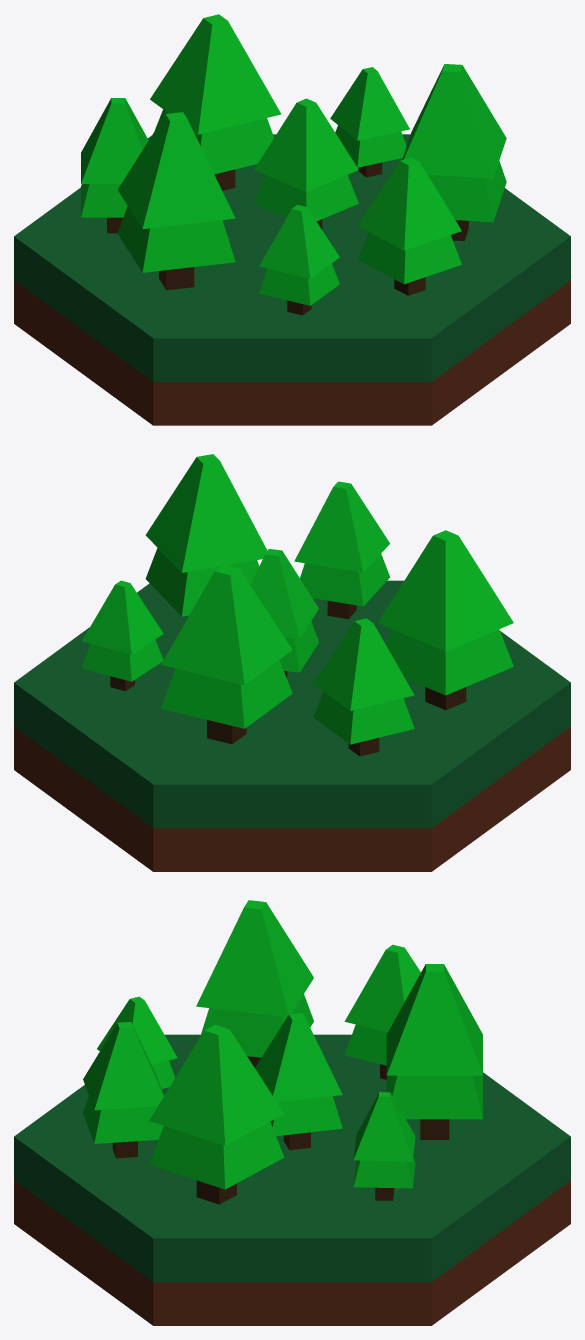
The model's file is SM_GrassForest.FBX.
The picture shows the model from 3 angles, top to bottom: view 1: azimuth 30°, elevation 25°; view 2: azimuth 150°, elevation 25°; view 3: azimuth 270°, elevation 25°; orthographic projection.
Visible parts, largest first — view 1: SM_GrassForest; view 2: SM_GrassForest; view 3: SM_GrassForest.
Part boxes in pixels (<box>): SM_GrassForest: <box>14,14,570,425</box>; SM_GrassForest: <box>14,454,570,871</box>; SM_GrassForest: <box>14,900,570,1325</box>.
Bounding box in the file's own units: 100 × 115 × 58.
